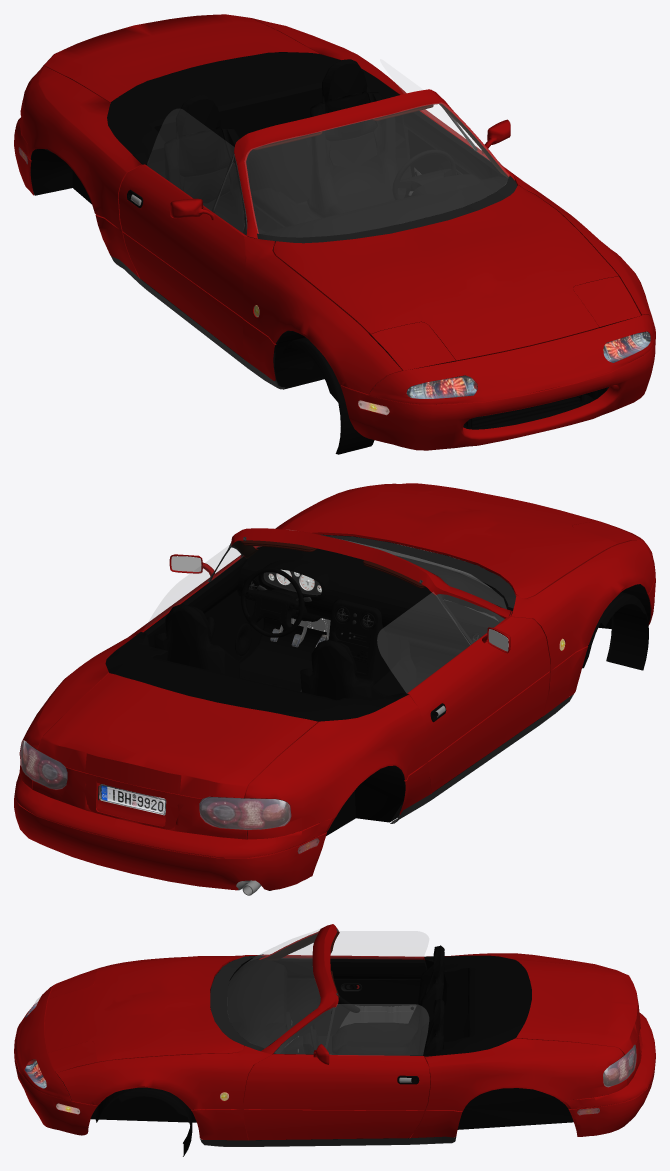
The picture shows the model from 3 angles, top to bottom: view 1: azimuth 30°, elevation 25°; view 2: azimuth 150°, elevation 25°; view 3: azimuth 270°, elevation 25°; orthographic projection. The views are drawn at different scales.
Parts seen in each view (by area): view 1: rigthdoor_Material #71_0, insidebed_Material #170_0, sidewin2_glass_0, Plane008_Material #170_0, indoor2_Material #169_0, Line002_Material #233_0, tire_Material #113_0, fcheeckin_Material #90_0, bwhlightamericanjapanese__0, Box008_Material #171_0, piece2_Material #83_0, steeringwheel_Material #155_0 (+3 smaller); view 2: rigthdoor_Material #71_0, insidebed_Material #170_0, sidewin2_glass_0, Plane008_Material #170_0, rearlightIN_Material #42_0, indoor2_Material #169_0, midsectioninside_Material #153_0, Line002_Material #233_0, mirrorbox_Material #70_0, tire_Material #113_0, Box008_Material #171_0, steeringwheel_Material #155_0 (+7 smaller); view 3: rigthdoor_Material #71_0, sidewin2_glass_0, insidebed_Material #170_0, indoor2_Material #169_0, Line002_Material #233_0, Plane008_Material #170_0, sideskirt_Material #118_0, bwhlightamericanjapanese__0, tire_Material #113_0, pouch2_Material #84_0, rearlightIN_Material #42_0, sidright_Material #77_0 (+4 smaller).
Part boxes in pixels (x1,y1,x2,y2): rigthdoor_Material #71_0: [14, 14, 655, 450]; insidebed_Material #170_0: [107, 52, 480, 304]; sidewin2_glass_0: [147, 60, 649, 398]; Plane008_Material #170_0: [252, 176, 515, 338]; indoor2_Material #169_0: [403, 111, 506, 179]; Line002_Material #233_0: [30, 149, 608, 428]; tire_Material #113_0: [280, 337, 374, 454]; fcheeckin_Material #90_0: [406, 331, 650, 398]; bwhlightamericanjapanese__0: [257, 175, 517, 243]; Box008_Material #171_0: [251, 188, 314, 226]; piece2_Material #83_0: [370, 321, 620, 428]; steeringwheel_Material #155_0: [392, 149, 456, 200]; rigthdoor_Material #71_0: [14, 483, 655, 890]; insidebed_Material #170_0: [105, 546, 512, 805]; sidewin2_glass_0: [20, 530, 505, 829]; Plane008_Material #170_0: [238, 546, 513, 696]; rearlightIN_Material #42_0: [20, 740, 291, 829]; indoor2_Material #169_0: [143, 556, 262, 663]; midsectioninside_Material #153_0: [237, 568, 487, 649]; Line002_Material #233_0: [32, 580, 650, 890]; mirrorbox_Material #70_0: [32, 554, 510, 837]; tire_Material #113_0: [582, 592, 648, 670]; Box008_Material #171_0: [329, 599, 399, 686]; steeringwheel_Material #155_0: [240, 568, 304, 637]; rigthdoor_Material #71_0: [14, 924, 655, 1140]; sidewin2_glass_0: [25, 929, 635, 1087]; insidebed_Material #170_0: [229, 945, 531, 1138]; indoor2_Material #169_0: [269, 958, 427, 1055]; Line002_Material #233_0: [56, 1051, 573, 1140]; Plane008_Material #170_0: [227, 959, 333, 1054]; sideskirt_Material #118_0: [200, 1136, 456, 1146]; bwhlightamericanjapanese__0: [210, 954, 291, 1051]; tire_Material #113_0: [95, 1087, 192, 1156]; pouch2_Material #84_0: [340, 1005, 416, 1027]; rearlightIN_Material #42_0: [603, 1044, 636, 1087]; sidright_Material #77_0: [274, 942, 335, 1053].
Bounding box in the file's own units: 1.81 × 1.02 × 3.97.
59 materials, 9 textured.
